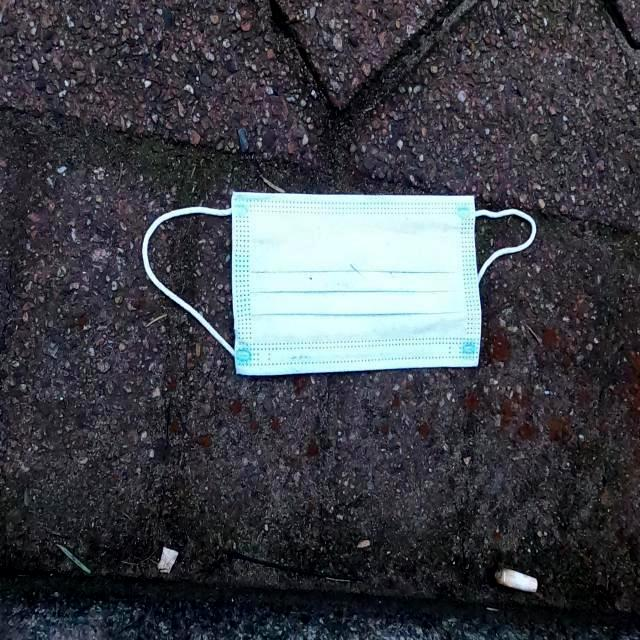Mask: (138, 185, 540, 383)
